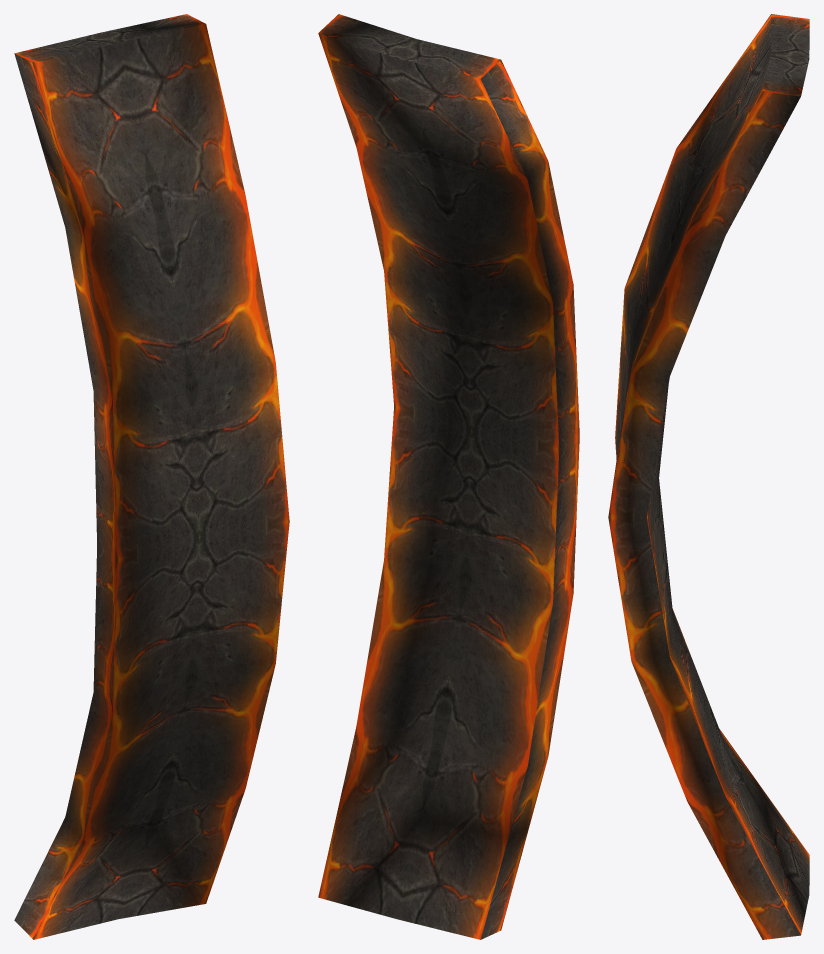
Rendered from bridge_06.obj.
3 renders of one model, left to right at view 1: azimuth 30°, elevation 25°; view 2: azimuth 150°, elevation 25°; view 3: azimuth 270°, elevation 25°, orthographic. The views are drawn at different scales.
Visible parts, largest first — view 1: (null); view 2: (null); view 3: (null).
Boxes of the visible parts, x1=… form: (null): x1=14, y1=14, x2=289, y2=939; (null): x1=318, y1=14, x2=579, y2=939; (null): x1=608, y1=14, x2=809, y2=939.
Bounding box in the file's own units: 1.98 × 9.64 × 2.07.
